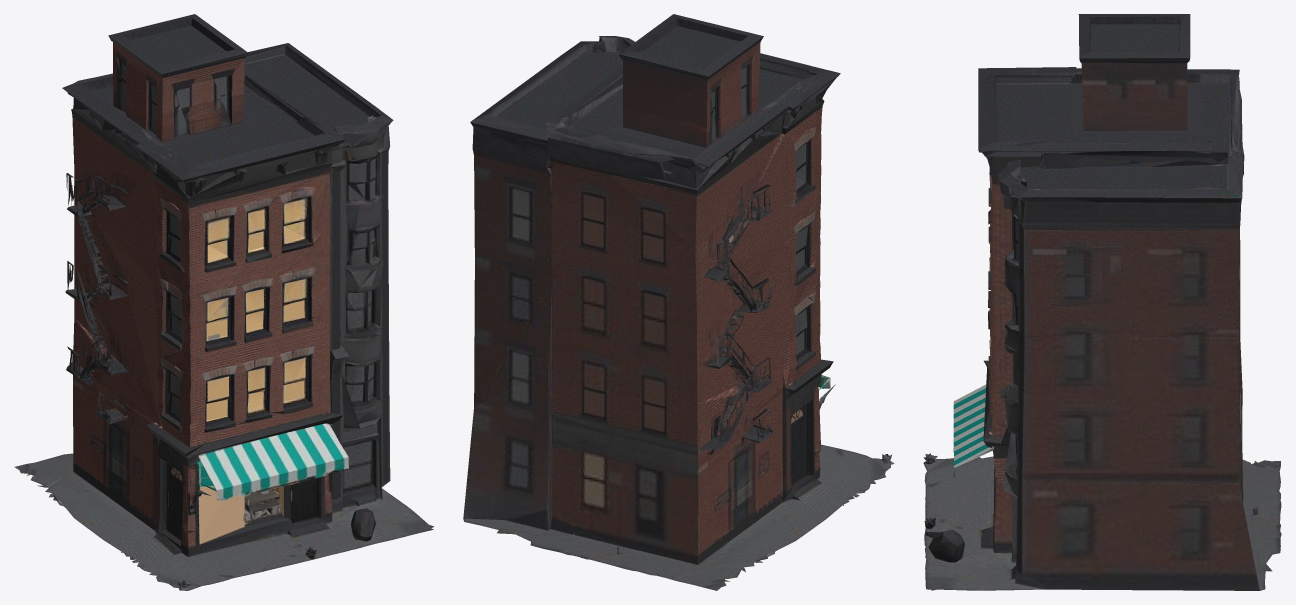
Rendered from bld_apartment.glb.
The picture shows the model from 3 angles, left to right: view 1: azimuth 30°, elevation 25°; view 2: azimuth 150°, elevation 25°; view 3: azimuth 270°, elevation 25°; orthographic projection. The views are drawn at different scales.
Size of the model in its own units: 1.17 by 1.9 by 1.3.
1 material, 1 textured.
